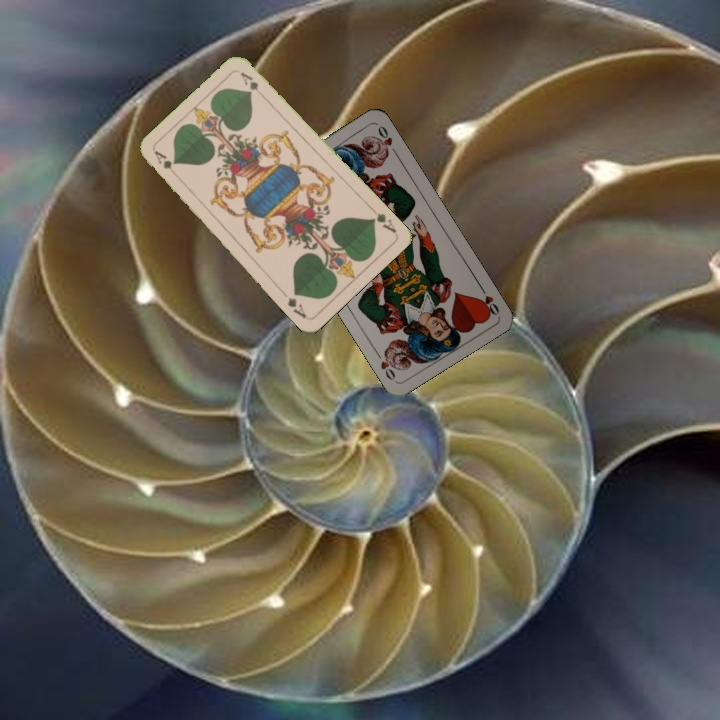GA: (366, 203, 399, 236), (151, 147, 182, 181)
HO: (475, 281, 502, 319)
